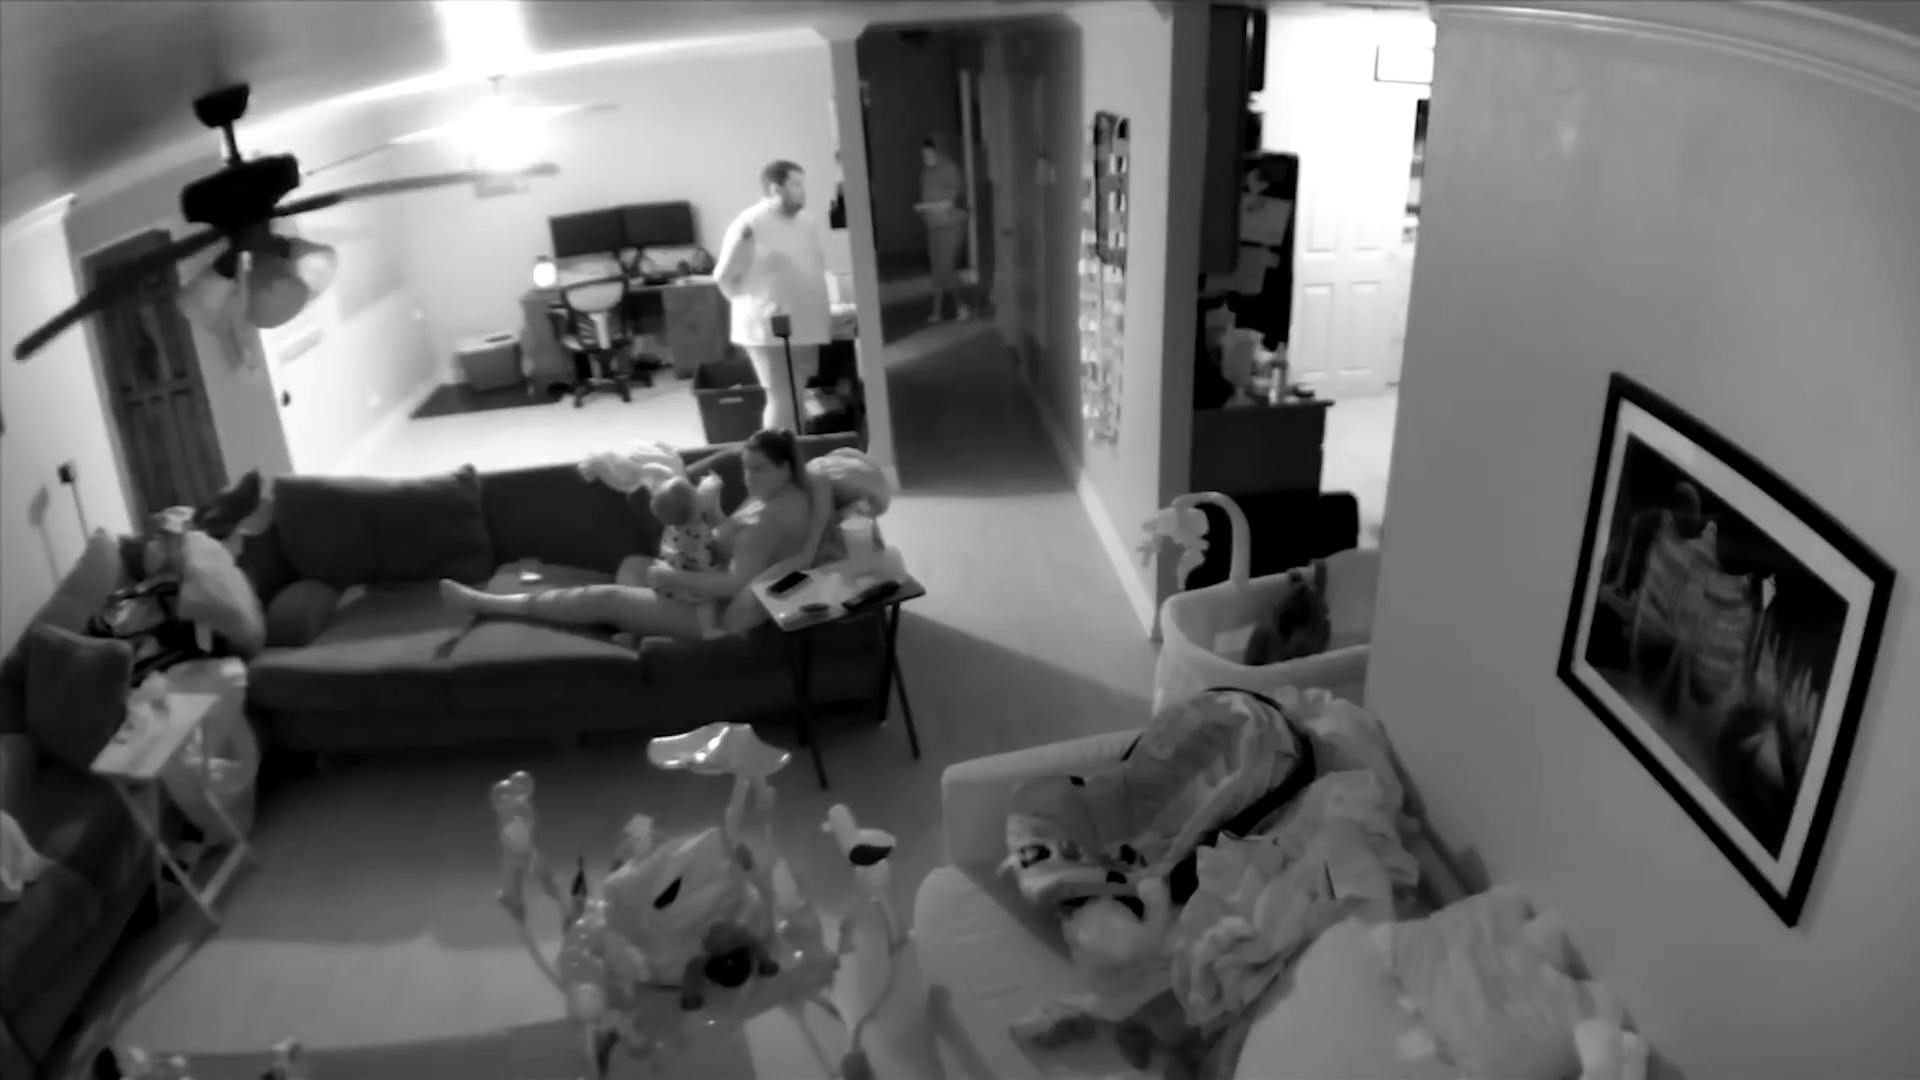face: (745, 449, 778, 499), (777, 172, 808, 211)
